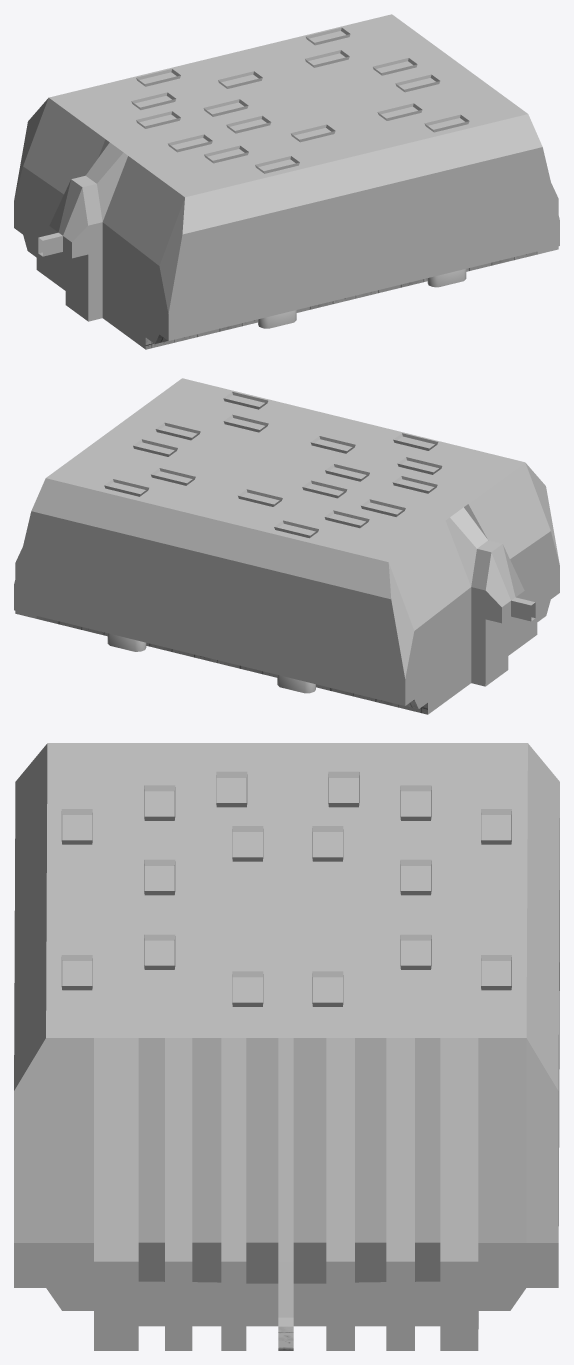
The model's file is chamber-b.FBX.
3 renders of one model, top to bottom at view 1: azimuth 30°, elevation 25°; view 2: azimuth 150°, elevation 25°; view 3: azimuth 270°, elevation 25°, orthographic. The views are drawn at different scales.
Parts seen in each view (by area): view 1: ChamberB, ColumnsB, FloorB; view 2: ChamberB, ColumnsB, FloorB; view 3: ChamberB, ColumnsB.
Part boxes in pixels (x1,y1,x2,y2): ChamberB: (14,14,559,349); ColumnsB: (131,27,469,328); FloorB: (38,251,537,349); ChamberB: (14,378,559,714); ColumnsB: (104,391,442,693); FloorB: (36,616,535,714); ChamberB: (14,743,559,1350); ColumnsB: (61,771,511,1006).
Bounding box in the file's own units: 123 × 40.93 × 68.18.
